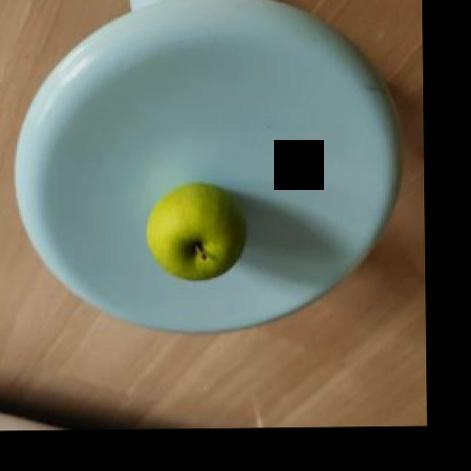green apple: (145, 187, 247, 283)
